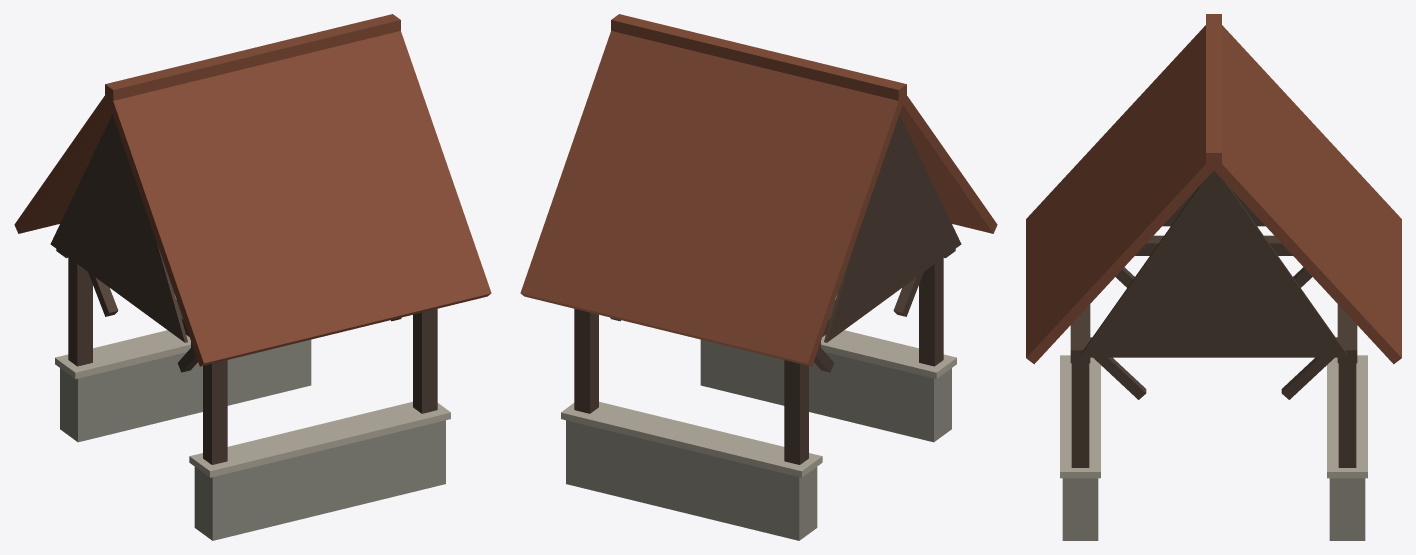
File: context.church.yard_lychgate_tile.glb
3 views of the same model, side by side, from view 1: azimuth 30°, elevation 25°; view 2: azimuth 150°, elevation 25°; view 3: azimuth 270°, elevation 25° (orthographic).
Visible parts, largest first — view 1: main__clad_843, main__stone_998, main__timber_543, main__stone_ba9; view 2: main__clad_843, main__stone_998, main__timber_543, main__stone_ba9; view 3: main__clad_843, main__timber_543, main__stone_ba9, main__stone_998.
Part boxes in pixels (bbox=[...]): main__clad_843: bbox=[14, 14, 491, 366]; main__stone_998: bbox=[60, 339, 445, 540]; main__timber_543: bbox=[50, 114, 437, 464]; main__stone_ba9: bbox=[55, 330, 450, 477]; main__clad_843: bbox=[520, 14, 997, 366]; main__stone_998: bbox=[566, 339, 951, 540]; main__timber_543: bbox=[574, 114, 961, 464]; main__stone_ba9: bbox=[561, 330, 956, 477]; main__clad_843: bbox=[1026, 14, 1401, 364]; main__timber_543: bbox=[1070, 171, 1357, 467]; main__stone_ba9: bbox=[1060, 355, 1367, 478]; main__stone_998: bbox=[1062, 478, 1365, 540].
Bounding box in the file's own units: 3.7 × 4.97 × 4.22.
